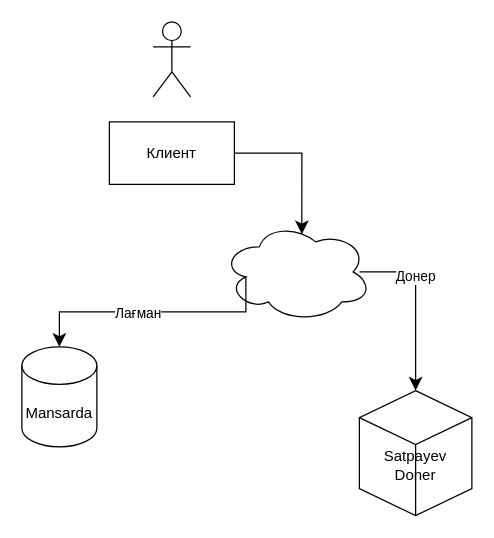
The diagram is 494 pixels wide and 538 high, and some of its shapes have lost their labels. Each missing label, with the centre of its shape:
Actor: the point at 171,59
Думает, где можно поесть?: the point at 296,271
